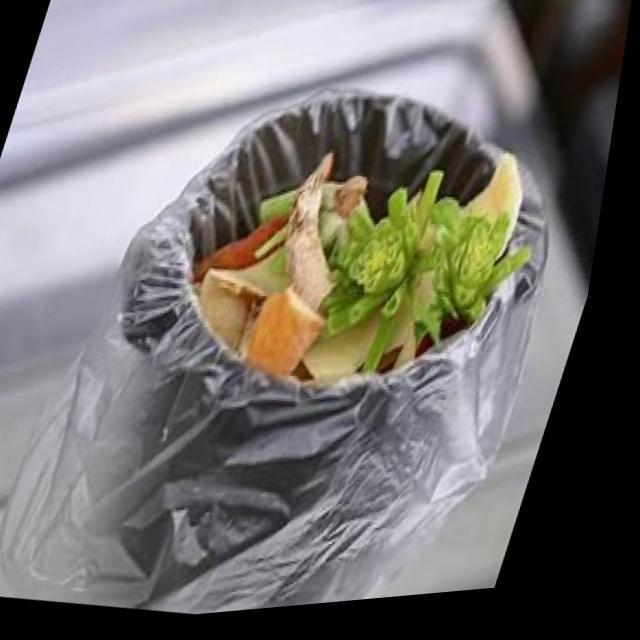Garbage: (206, 158, 540, 388)
